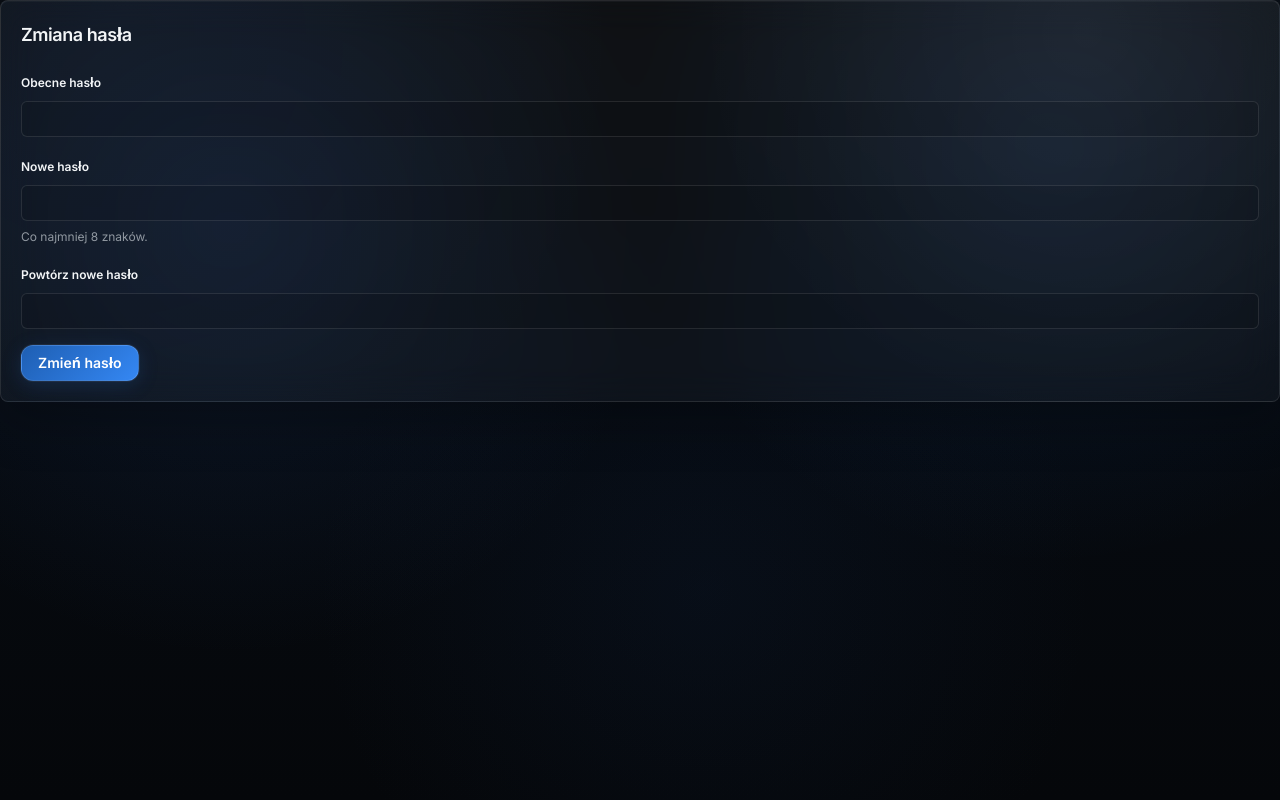
ChangePasswordCard › blocks a password equal to the current one
Type "demo1234" into the password field labelled "Obecne hasło" at (640, 119), box [21,101,1259,137]
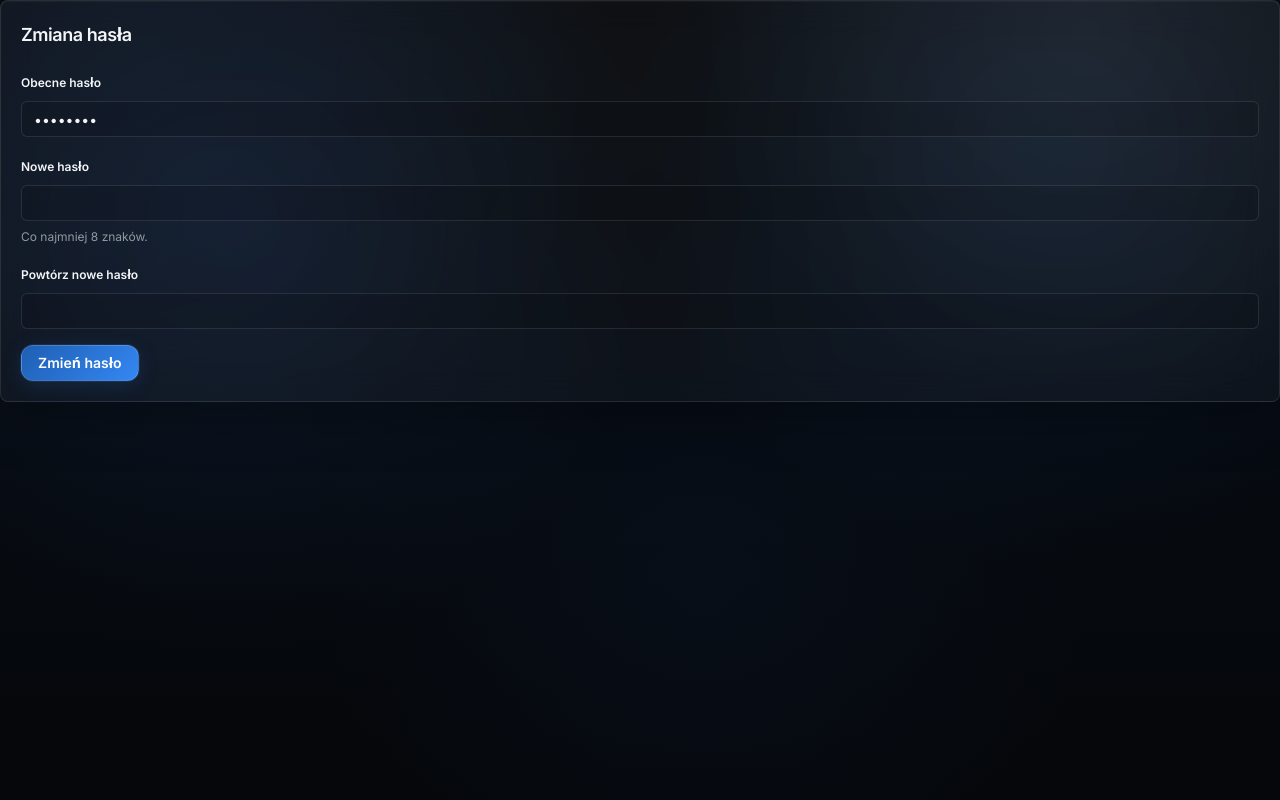
Type "demo1234" into the password field labelled "Nowe hasło" at (640, 203), box [21,185,1259,221]
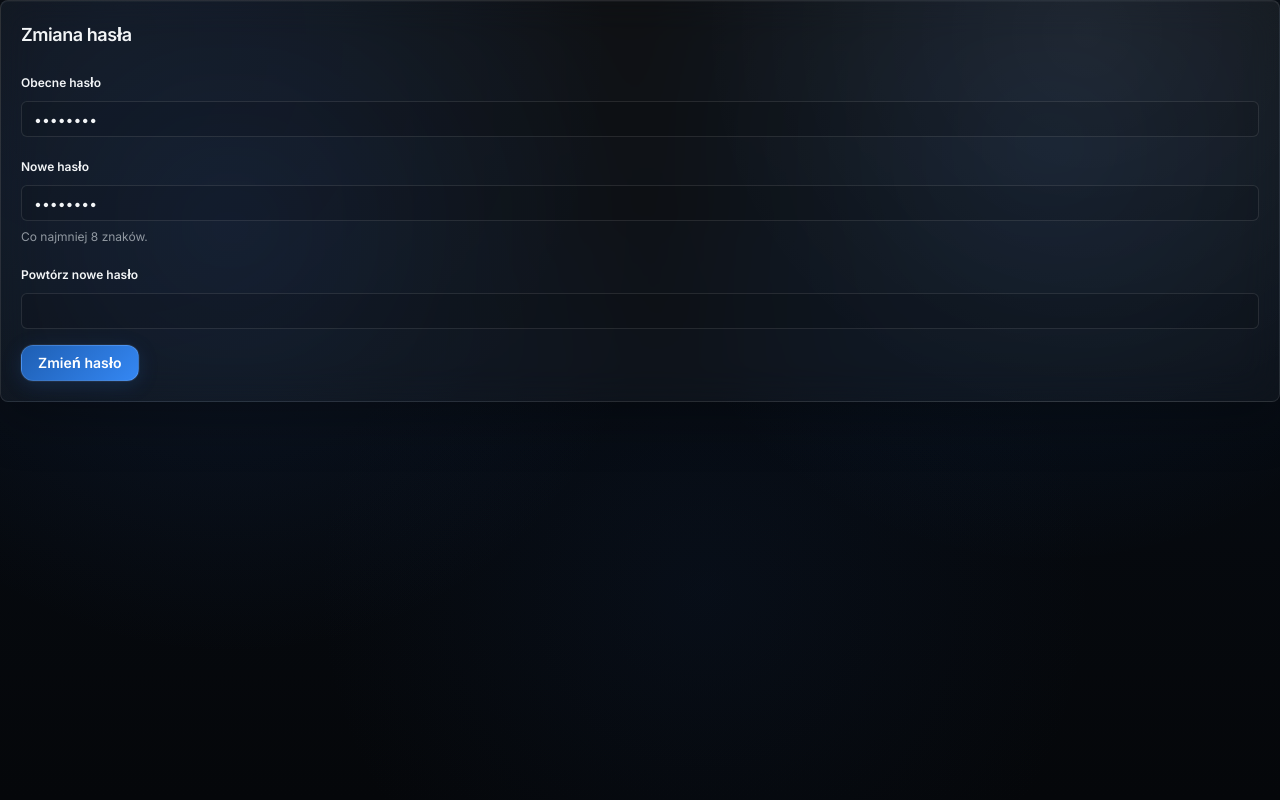
Type "demo1234" into the password field labelled "Powtórz nowe hasło" at (640, 311), box [21,293,1259,329]
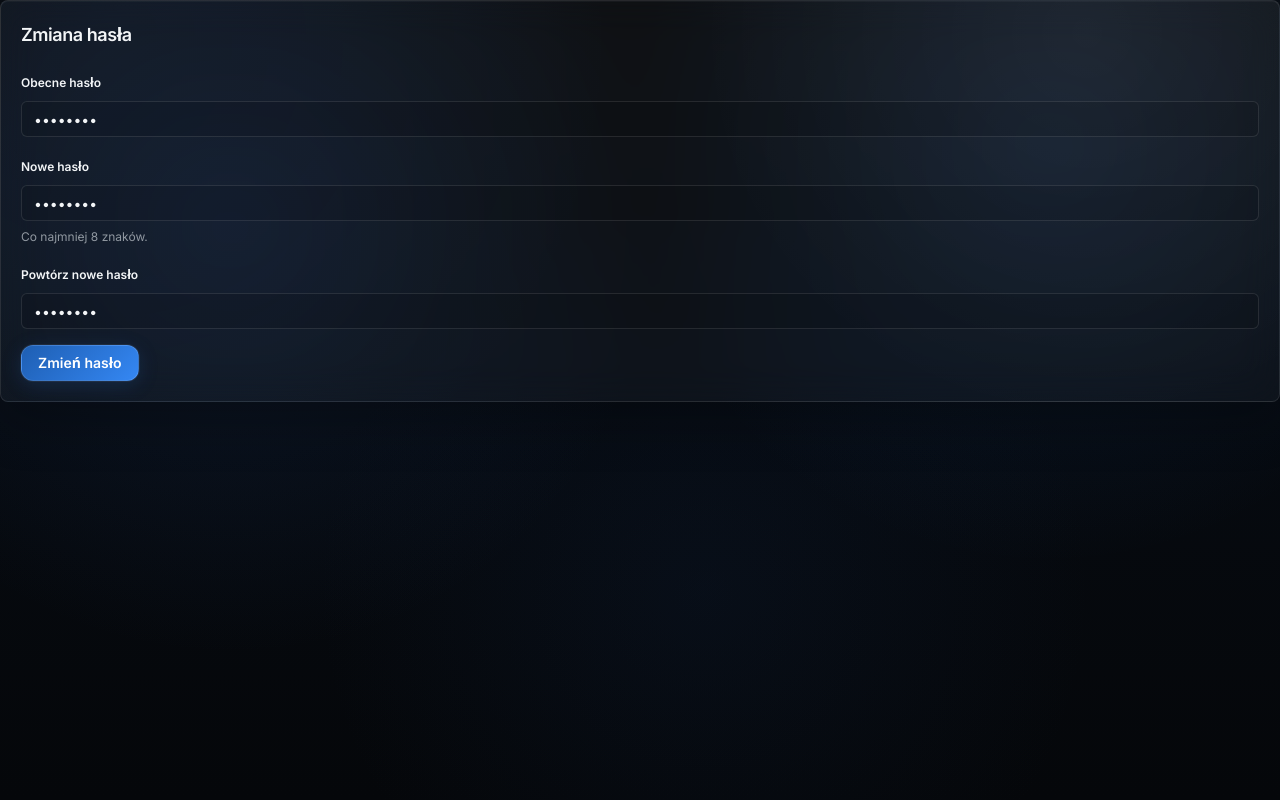
Click the button "Zmień hasło" at (80, 363), box [21,345,138,381]
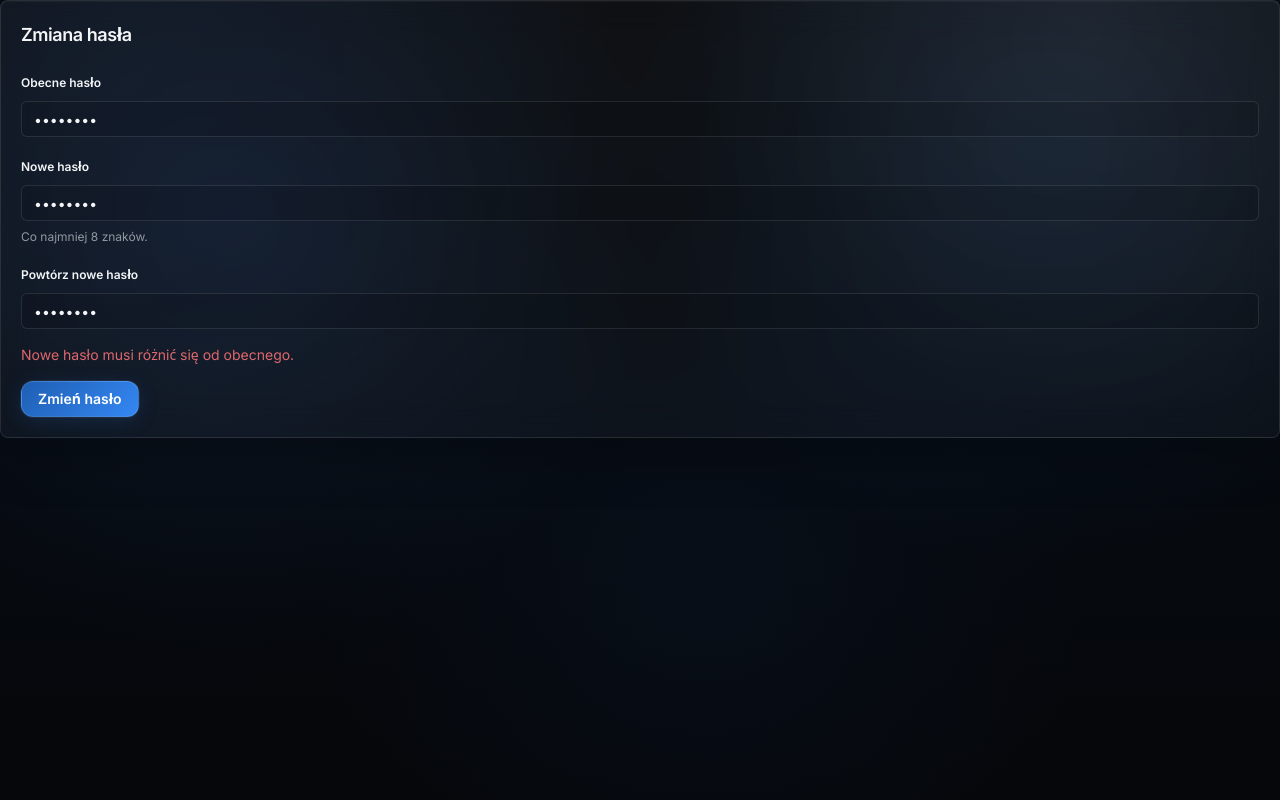
expect the message reads "Nowe hasło musi różnić się od obecnego.": met, box [21,346,294,363]
